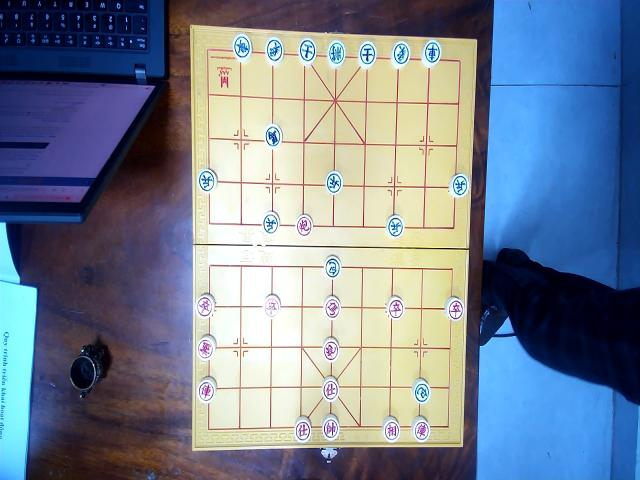piece: (421, 39, 441, 68), (231, 32, 251, 61), (326, 39, 346, 67), (196, 377, 216, 404), (381, 415, 401, 442), (444, 295, 464, 322), (196, 334, 216, 361), (410, 415, 430, 442), (195, 293, 215, 320), (390, 41, 410, 68), (294, 415, 312, 444), (449, 172, 469, 198), (411, 378, 431, 404), (358, 40, 377, 67), (265, 36, 283, 64), (322, 295, 342, 320), (197, 167, 217, 192), (322, 414, 340, 441), (322, 337, 340, 364), (298, 37, 316, 64), (263, 123, 281, 149), (386, 214, 404, 239), (324, 170, 342, 195), (322, 376, 339, 402), (386, 295, 404, 319), (262, 211, 280, 235), (296, 213, 313, 238), (324, 254, 341, 279), (264, 292, 280, 318)
